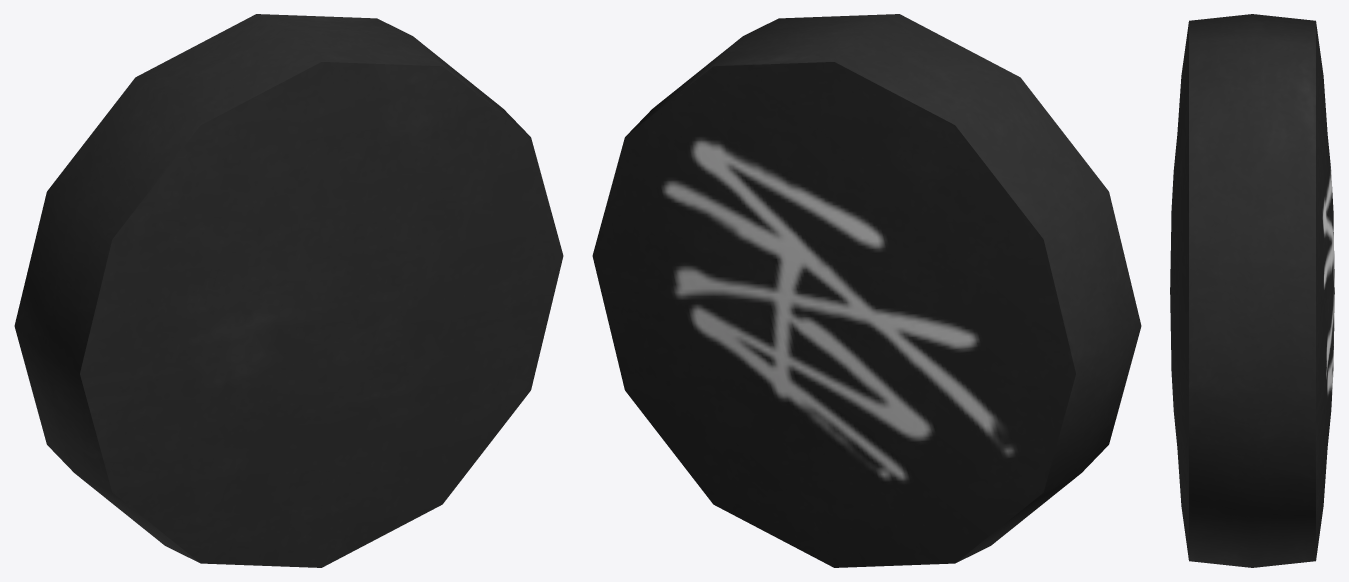
The model's file is STRAYKIDS_03.glb.
3 renders of one model, left to right at view 1: azimuth 30°, elevation 25°; view 2: azimuth 150°, elevation 25°; view 3: azimuth 270°, elevation 25°, orthographic. The views are drawn at different scales.
Bounding box in the file's own units: 0.1187 × 0.1187 × 0.0352.
1 material, 1 textured.
